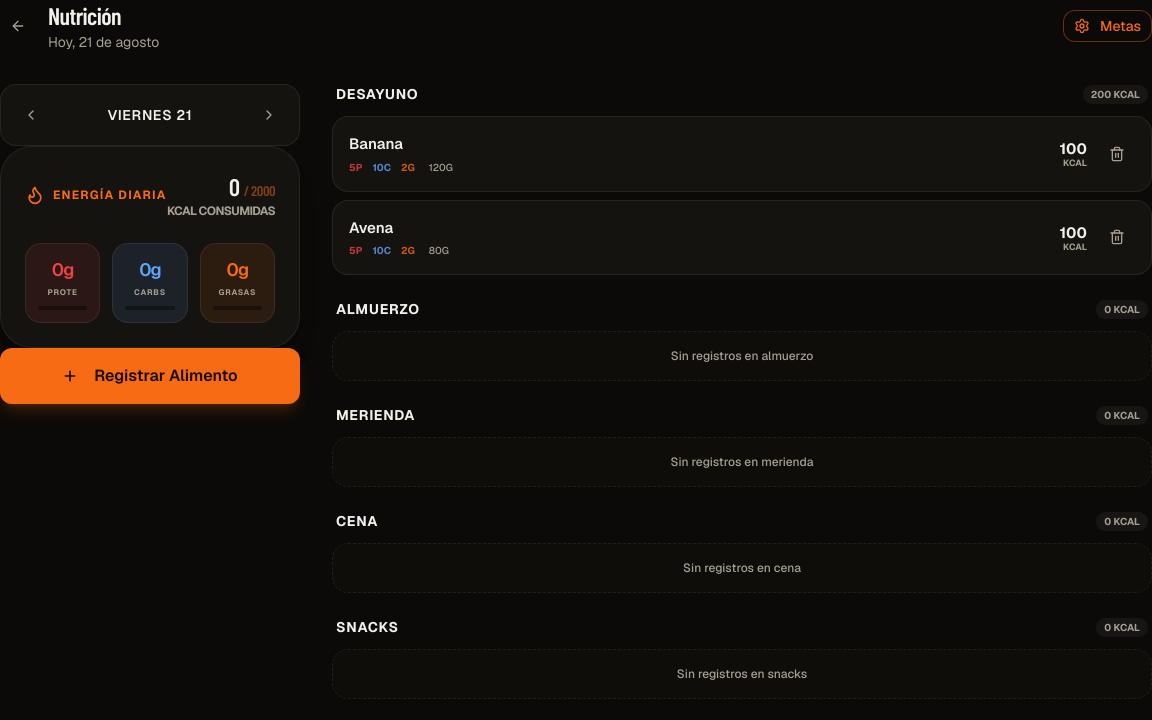
nutrition diary — deleting the right entry, and only it › deletes the row that was tapped, not the first one
Expected: the text "Avena" is shown, [349,218,393,236]
Step 1. Click the 2nd button named "Eliminar registro" → (1117, 237), box [1099,219,1135,255]
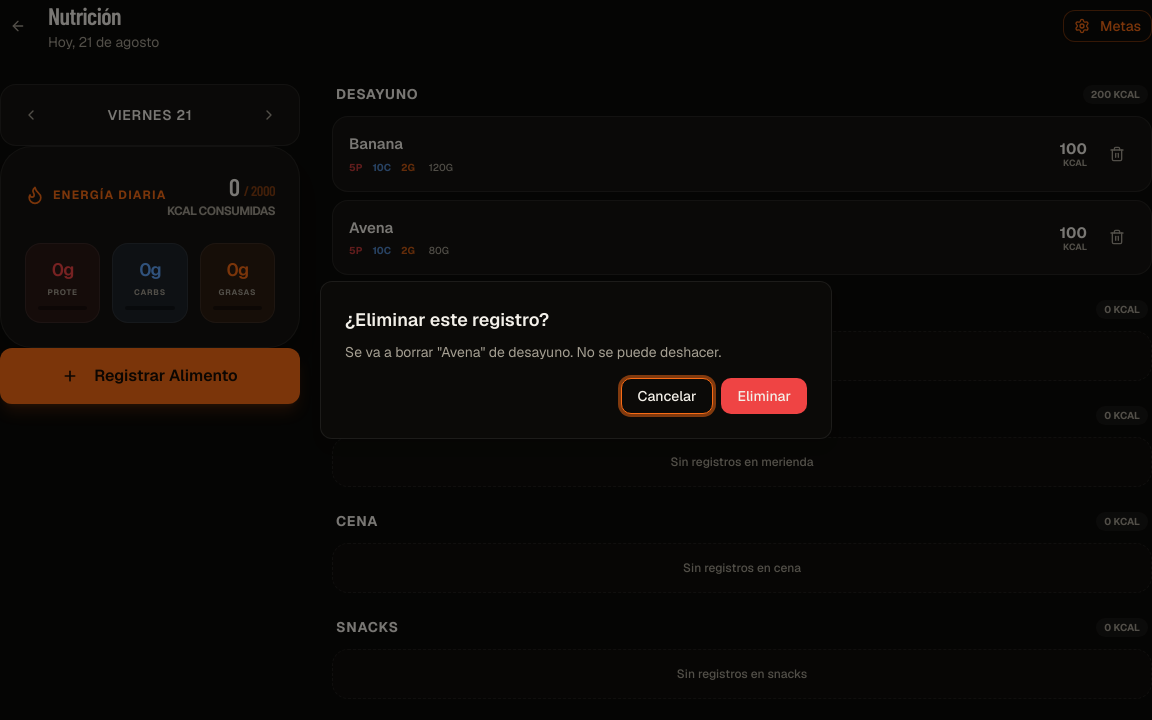
Step 2. Click the button "Eliminar" → (764, 396), box [722,378,807,414]
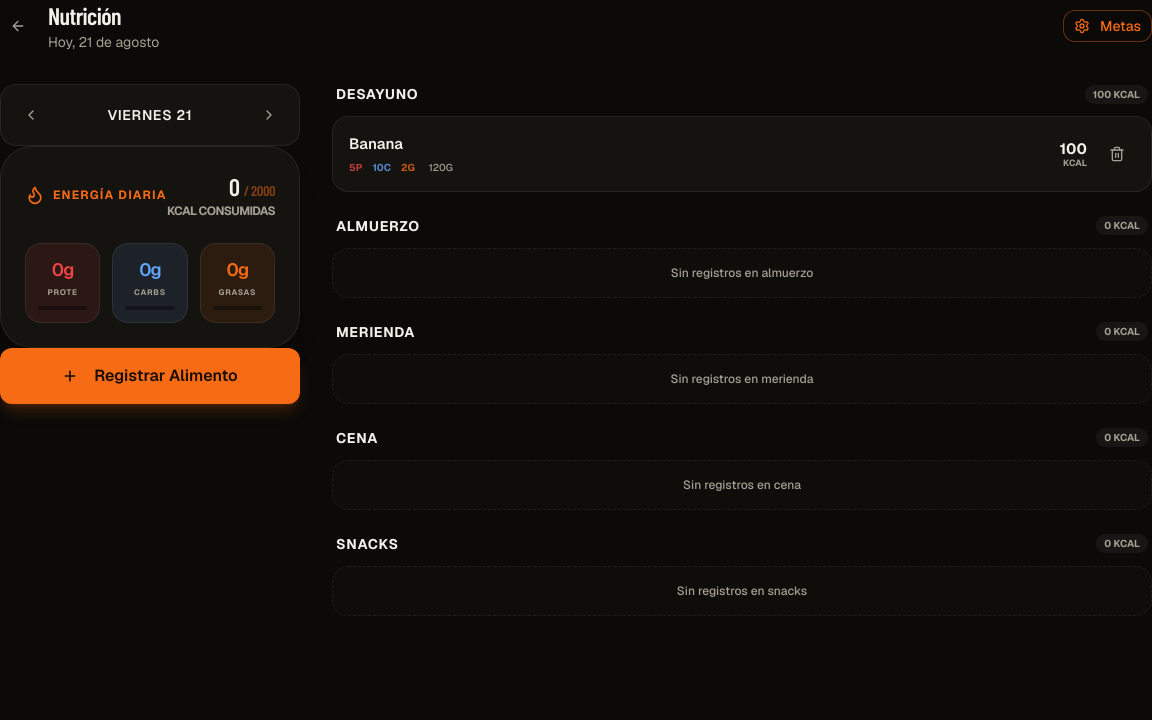
Expected: the text "Banana" is shown, [349,134,403,153]
Expected: the button "Avena" is gone
